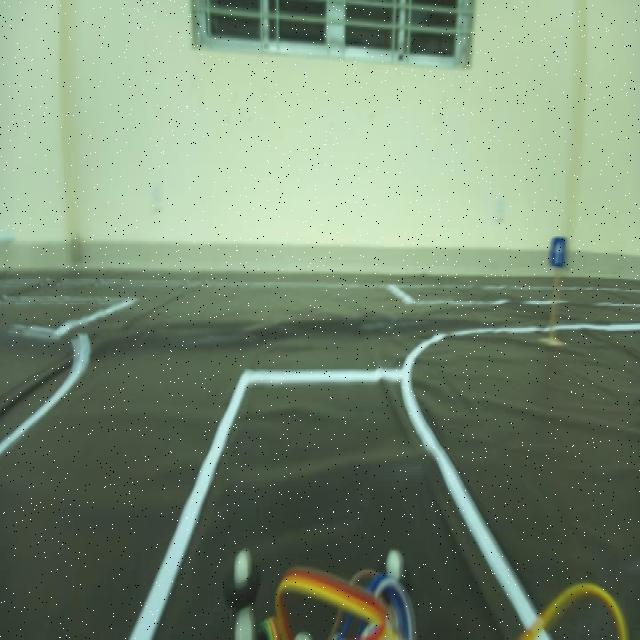onewayroad: (541, 224, 573, 280)
